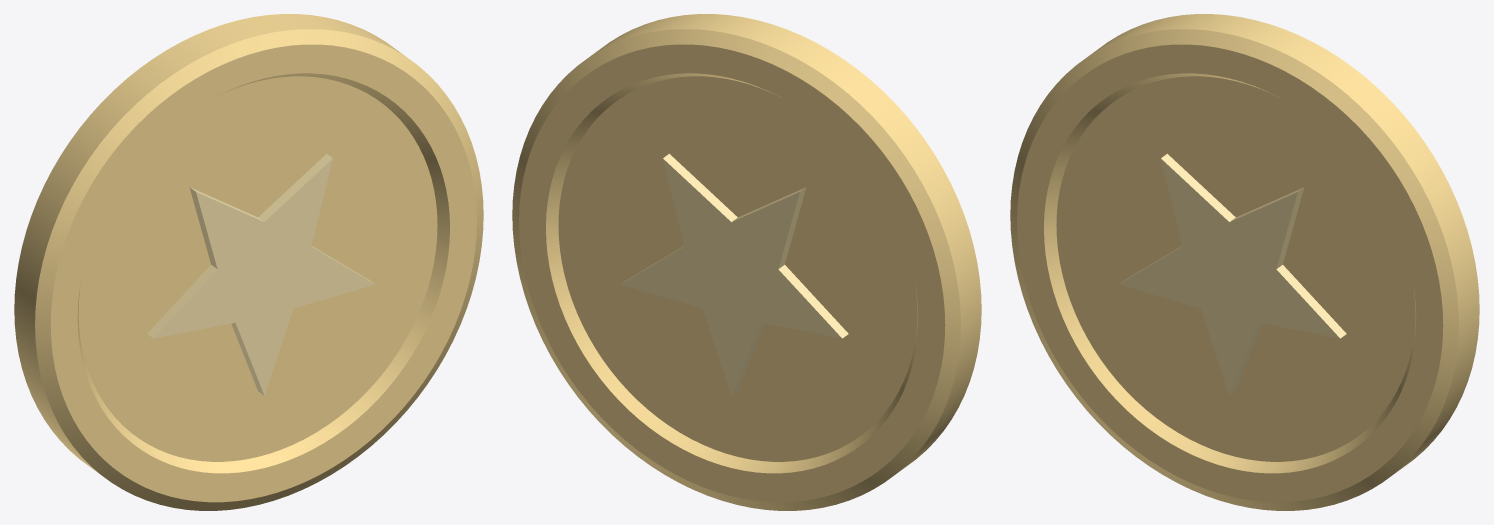
The model's file is coin.glb.
3 renders of one model, left to right at view 1: azimuth 30°, elevation 25°; view 2: azimuth 150°, elevation 25°; view 3: azimuth 330°, elevation 25°, orthographic.
Parts seen in each view (by area): view 1: coin; view 2: coin; view 3: coin.
Part boxes in pixels (bbox=[...]): coin: bbox=[14, 14, 483, 510]; coin: bbox=[512, 14, 981, 510]; coin: bbox=[1010, 14, 1479, 510].
Size of the model in its own units: 2 by 2 by 0.24.
